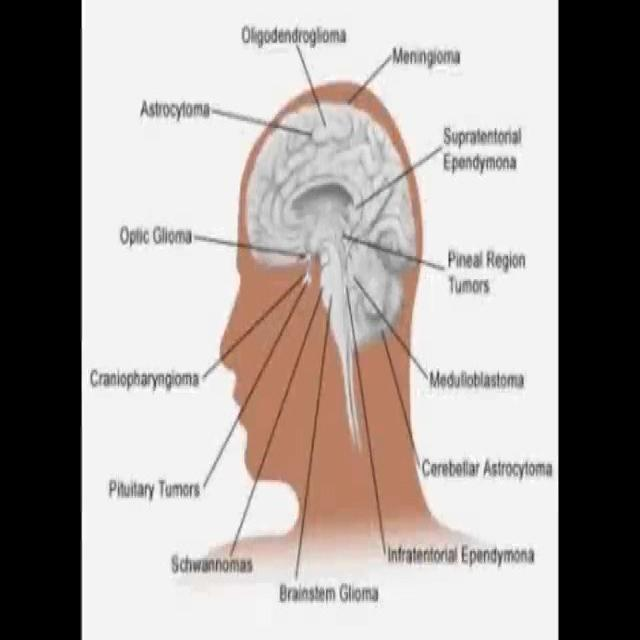tumor: (314, 188, 364, 262)
